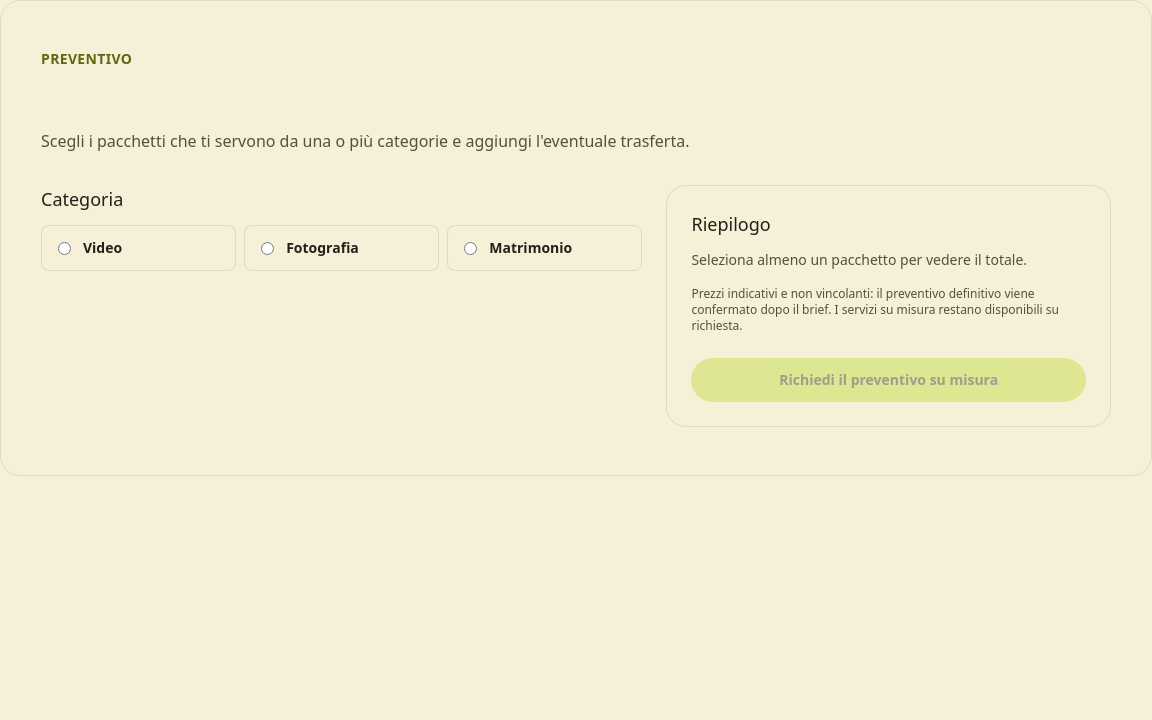
Test: QuoteEstimator › shows the reel per-unit prices
Step 1. Click the radio button labelled "Video" → click(64, 248), box top-left (58, 242), bottom-right (71, 255)
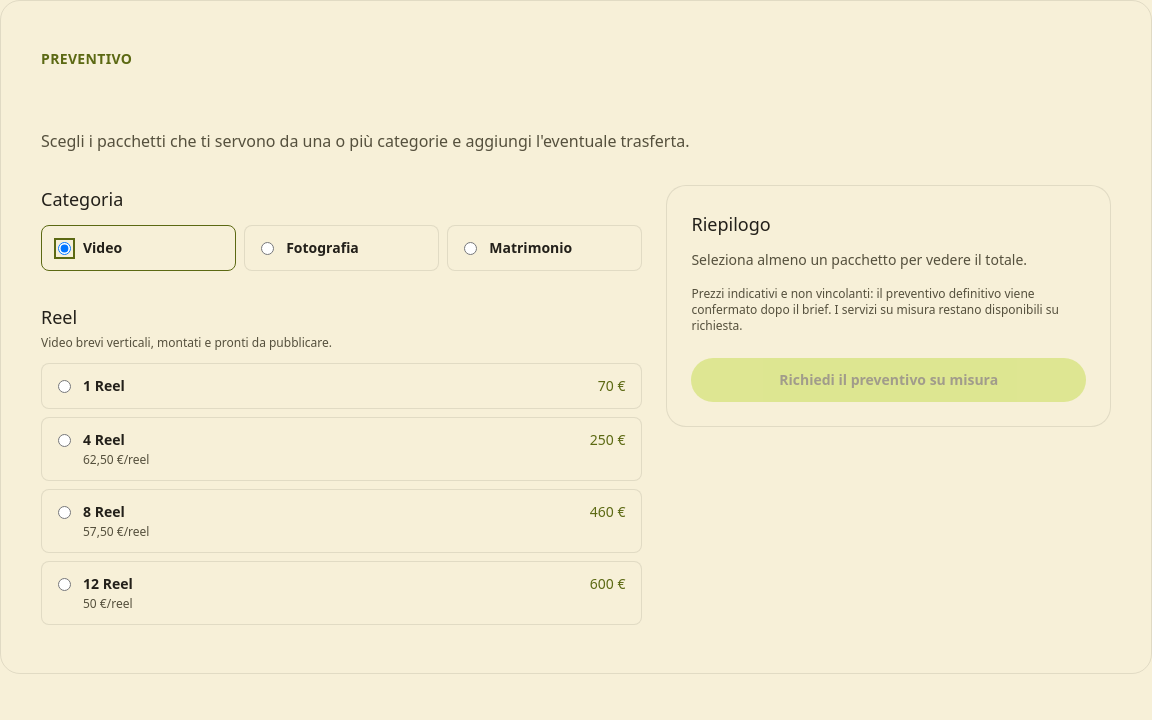
Expected: the text "62,50 €/reel" is shown, top-left (83, 451), bottom-right (150, 468)
Expected: the text "57,50 €/reel" is shown, top-left (83, 523), bottom-right (150, 540)
Expected: the text "50 €/reel" is shown, top-left (83, 595), bottom-right (132, 612)
